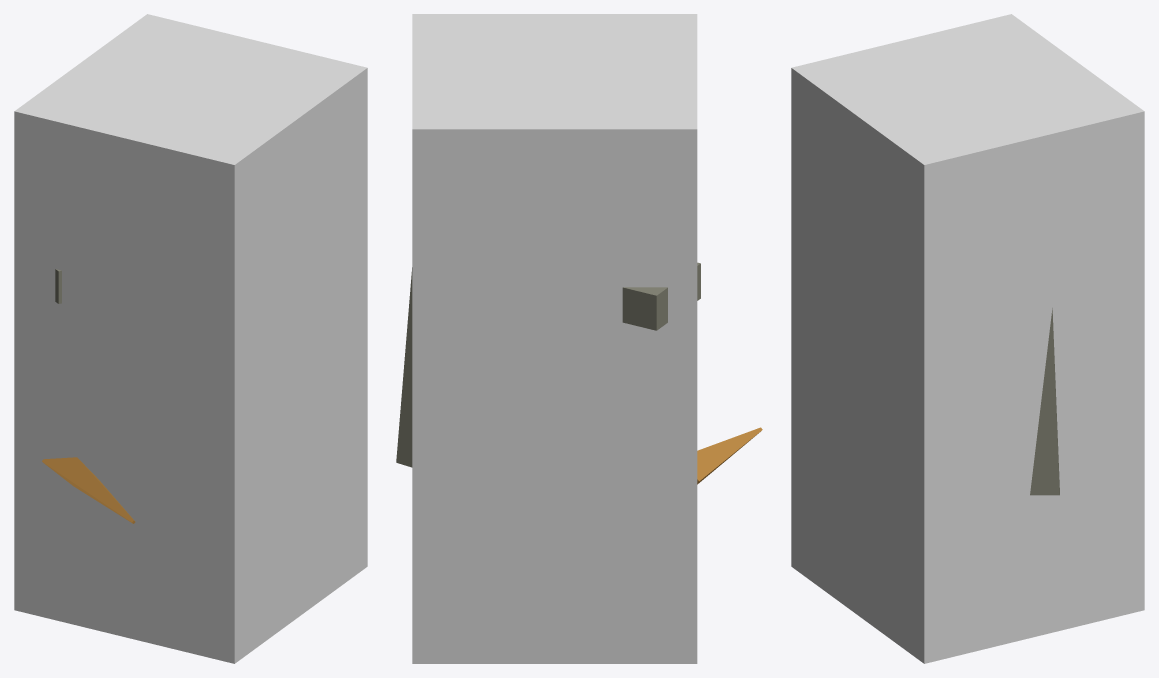
File: jungle_temple_guard.fbx
3 views of the same model, side by side, from view 1: azimuth 30°, elevation 25°; view 2: azimuth 150°, elevation 25°; view 3: azimuth 270°, elevation 25° (orthographic). The views are drawn at different scales.
Parts seen in each view (by area): view 1: Root__-0.05_3.25_-0.53__3.14_6.50_3.00, ArmR__Torso__1.11_4.24_0.00; view 2: Root__-0.05_3.25_-0.53__3.14_6.50_3.00, Torso__Root__0.00_2.68_0.00, ArmL__Torso__-1.11_4.24_0.00, ArmR__Torso__1.11_4.24_0.00; view 3: Root__-0.05_3.25_-0.53__3.14_6.50_3.00, ArmL__Torso__-1.11_4.24_0.00.
Part boxes in pixels (<box>): Root__-0.05_3.25_-0.53__3.14_6.50_3.00: <box>14,14,367,663</box>; ArmR__Torso__1.11_4.24_0.00: <box>42,457,135,523</box>; Root__-0.05_3.25_-0.53__3.14_6.50_3.00: <box>412,14,697,663</box>; Torso__Root__0.00_2.68_0.00: <box>622,262,700,330</box>; ArmL__Torso__-1.11_4.24_0.00: <box>396,267,412,467</box>; ArmR__Torso__1.11_4.24_0.00: <box>697,427,762,484</box>; Root__-0.05_3.25_-0.53__3.14_6.50_3.00: <box>791,14,1144,663</box>; ArmL__Torso__-1.11_4.24_0.00: <box>1030,308,1059,495</box>.
Size of the model in its own units: 118 by 183 by 117.
Materials: 1 (1 with a texture image).
